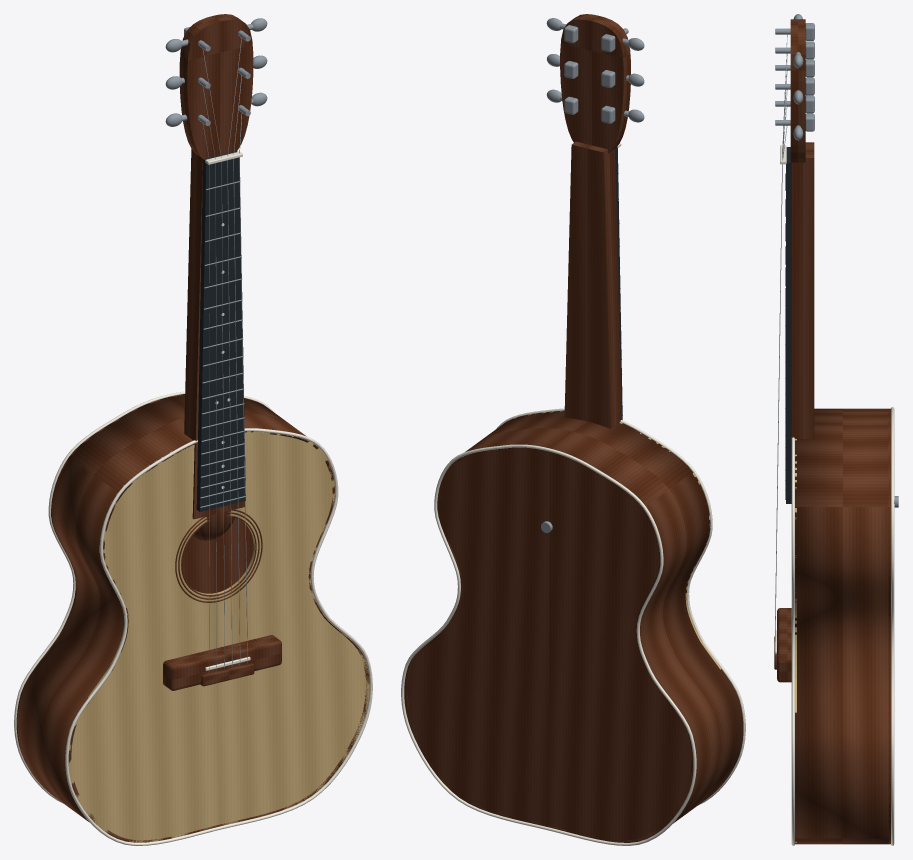
File: acoustic-guitar-v1.glb
The picture shows the model from 3 angles, left to right: view 1: azimuth 30°, elevation 25°; view 2: azimuth 150°, elevation 25°; view 3: azimuth 270°, elevation 25°; orthographic projection. The views are drawn at different scales.
Visible parts, largest first — view 1: Soundboard with real circular soundhole, Hollow acoustic body finite side ribs, Individually fretted fingerboard, Original tapered headstock, Bound soundbox edge, Tapered maple neck, Hollow acoustic body back plate, Bridge base, Bound soundbox edge.001, Seated neck heel, String 04, String 05 (+1 smaller); view 2: Hollow acoustic body back plate, Hollow acoustic body finite side ribs, Tapered maple neck, Original tapered headstock, Bound soundbox edge.001, Bound soundbox edge, Individually fretted fingerboard; view 3: Hollow acoustic body finite side ribs, Tapered maple neck, Individually fretted fingerboard, Original tapered headstock, Bound soundbox edge.001, Bound soundbox edge, Hollow acoustic body back plate, Bridge base, String 06, Soundboard with real circular soundhole.
Part boxes in pixels (x1,y1,x2,y2): Soundboard with real circular soundhole: (68,431,369,842); Hollow acoustic body finite side ribs: (16,394,369,842); Individually fretted fingerboard: (196,151,245,511); Original tapered headstock: (179,14,253,159); Bound soundbox edge: (65,428,372,845); Tapered maple neck: (184,149,244,519); Hollow acoustic body back plate: (16,394,258,793); Bridge base: (163,635,281,690); Bound soundbox edge.001: (14,391,273,803); Seated neck heel: (192,507,234,540); String 04: (227,38,241,667); String 05: (233,75,241,666); Hollow acoustic body back plate: (404,448,696,842); Hollow acoustic body finite side ribs: (404,410,743,842); Tapered maple neck: (564,141,621,428); Original tapered headstock: (560,14,630,153); Bound soundbox edge.001: (401,444,696,845); Bound soundbox edge: (496,408,745,805); Individually fretted fingerboard: (615,147,622,419); Hollow acoustic body finite side ribs: (795,408,890,844); Tapered maple neck: (792,142,814,438); Individually fretted fingerboard: (786,147,791,503); Original tapered headstock: (790,19,805,162); Bound soundbox edge.001: (891,407,894,845); Bound soundbox edge: (791,437,794,845); Hollow acoustic body back plate: (888,408,890,844); Bridge base: (777,608,791,682); String 06: (774,126,787,656); Soundboard with real circular soundhole: (794,439,796,842).
Bounding box in the file's own units: 0.414 × 1.05 × 0.15.
5 materials, 5 textured.
